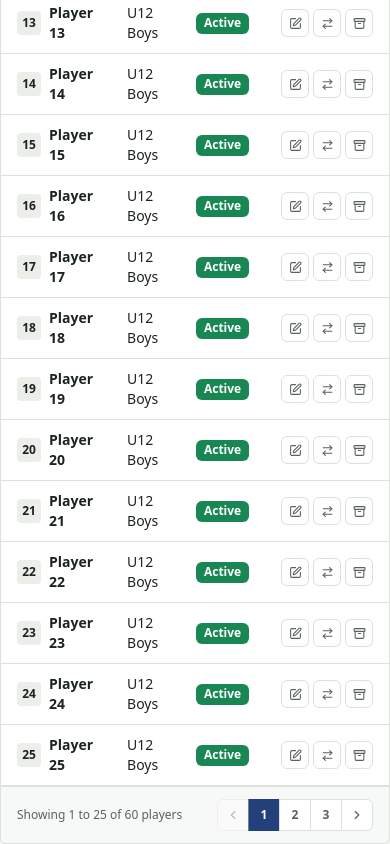
Test: ClubPlayersView › searching from a later page returns to the first
(page scrolled)
Click the button named "Page 3".
click(326, 815)  # box [310,799,342,831]
(page scrolled)
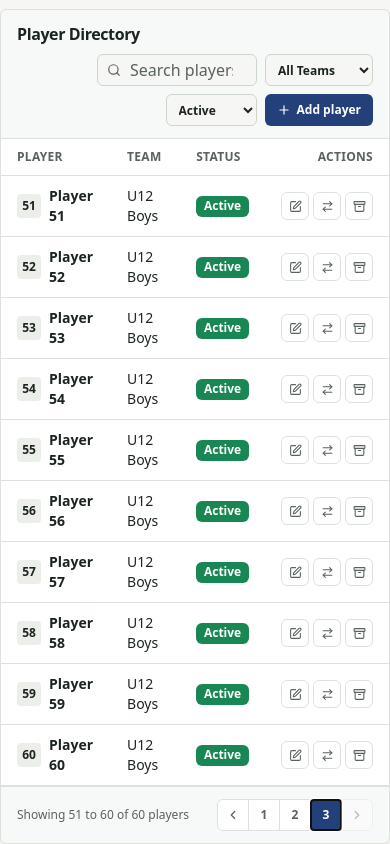
Type "Player 07" into the search field labelled "Search players...".
click(177, 70); type("Player 07")  # box [97,54,257,86]
(page scrolled)
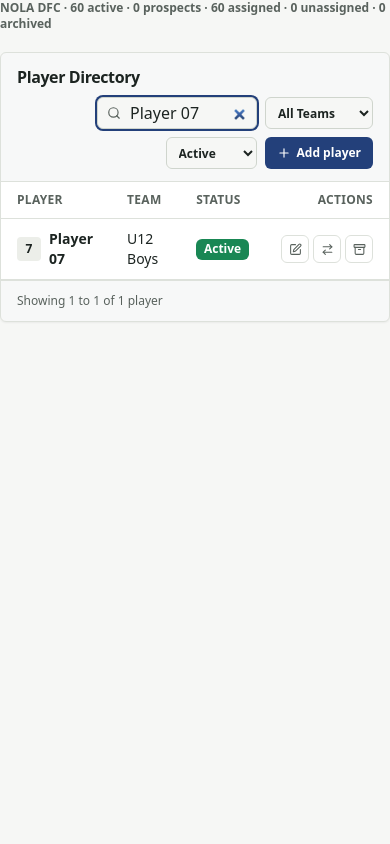
Expected: the text "Showing 1 to 1 of 1 player" is shown, [17,293,163,309]
